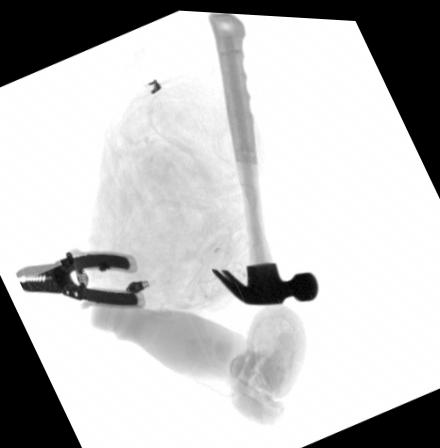Hammer: (208, 10, 318, 301)
Pliers: (13, 248, 143, 309)
